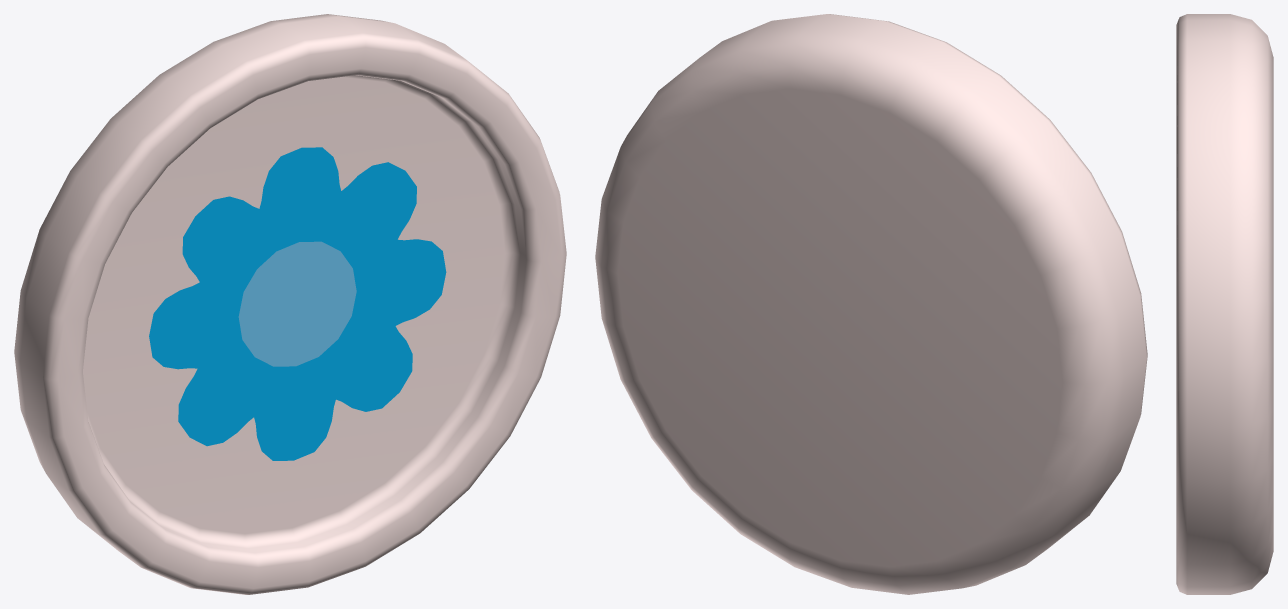
The model's file is City_12_Decor_Plate_2.glb.
3 views of the same model, side by side, from view 1: azimuth 30°, elevation 25°; view 2: azimuth 150°, elevation 25°; view 3: azimuth 270°, elevation 25° (orthographic). The views are drawn at different scales.
Parts seen in each view (by area): view 1: City_12_Decor_Plate_2; view 2: City_12_Decor_Plate_2; view 3: City_12_Decor_Plate_2.
Part boxes in pixels (<box>): City_12_Decor_Plate_2: <box>14,14,566,594</box>; City_12_Decor_Plate_2: <box>595,14,1147,594</box>; City_12_Decor_Plate_2: <box>1176,14,1273,594</box>.
Bounding box in the file's own units: 0.5139 × 0.5139 × 0.0859.
1 material, 1 textured.
